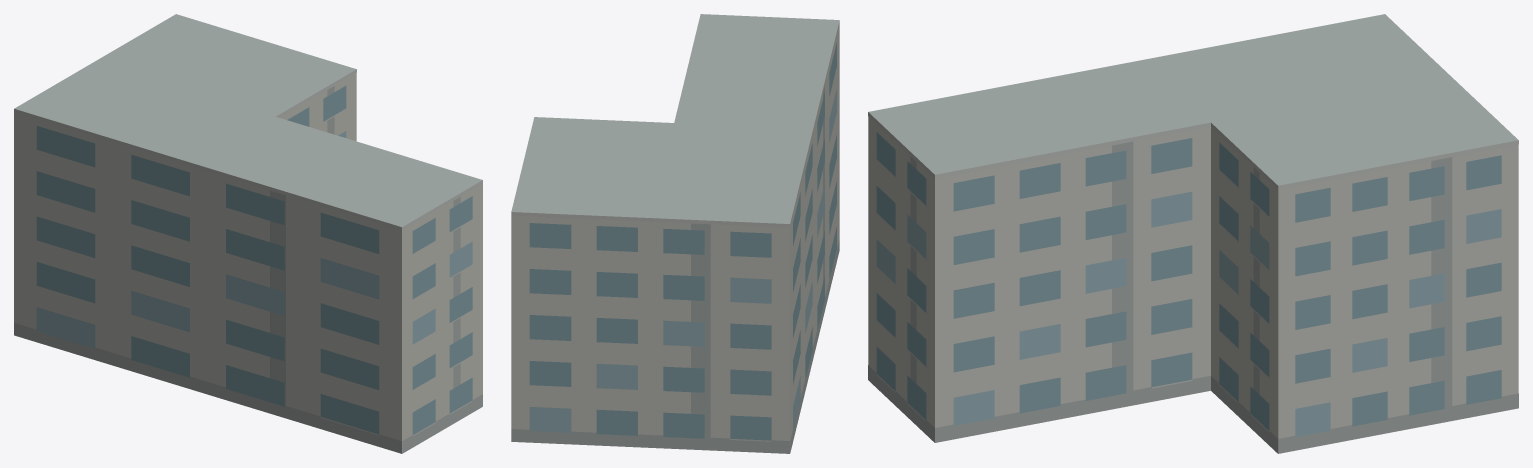
The model's file is residential-aa878fe1-ac61-4007-9f9f-32d6912b183a.glb.
3 views of the same model, side by side, from view 1: azimuth 30°, elevation 25°; view 2: azimuth 150°, elevation 25°; view 3: azimuth 270°, elevation 25° (orthographic). The views are drawn at different scales.
Visible parts, largest first — view 1: residential-aa878fe1-ac61-4007-9f9f-32d6912b183a.tmp; view 2: residential-aa878fe1-ac61-4007-9f9f-32d6912b183a.tmp; view 3: residential-aa878fe1-ac61-4007-9f9f-32d6912b183a.tmp.
Part boxes in pixels (x1=…): residential-aa878fe1-ac61-4007-9f9f-32d6912b183a.tmp: x1=14, y1=14, x2=482, y2=453; residential-aa878fe1-ac61-4007-9f9f-32d6912b183a.tmp: x1=511, y1=14, x2=839, y2=453; residential-aa878fe1-ac61-4007-9f9f-32d6912b183a.tmp: x1=868, y1=14, x2=1518, y2=453.
Size of the model in its own units: 20.95 by 15.25 by 33.54.
